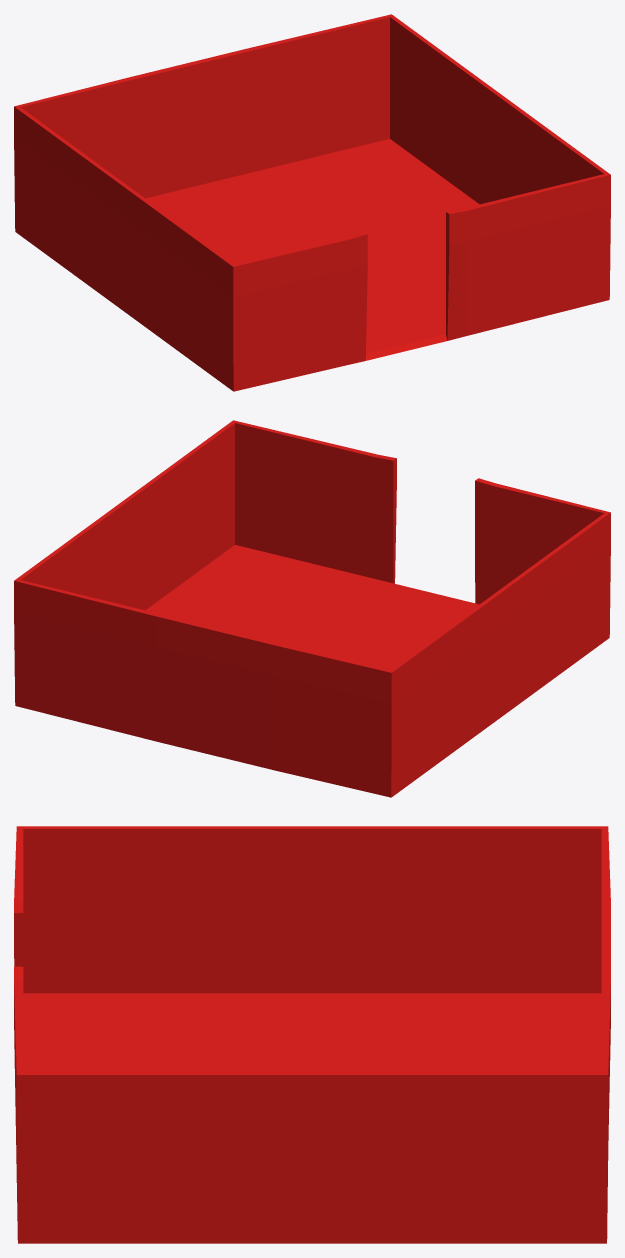
Rendered from MainMenu.fbx.
3 views of the same model, one above another, from view 1: azimuth 30°, elevation 25°; view 2: azimuth 150°, elevation 25°; view 3: azimuth 270°, elevation 25° (orthographic). The views are drawn at different scales.
Parts seen in each view (by area): view 1: Cube.001; view 2: Cube.001; view 3: Cube.001.
Part boxes in pixels (x1,y1,x2,y2): Cube.001: (14, 14, 610, 391); Cube.001: (14, 420, 610, 797); Cube.001: (14, 826, 610, 1243).
Size of the model in its own units: 1279 by 415 by 1298.
